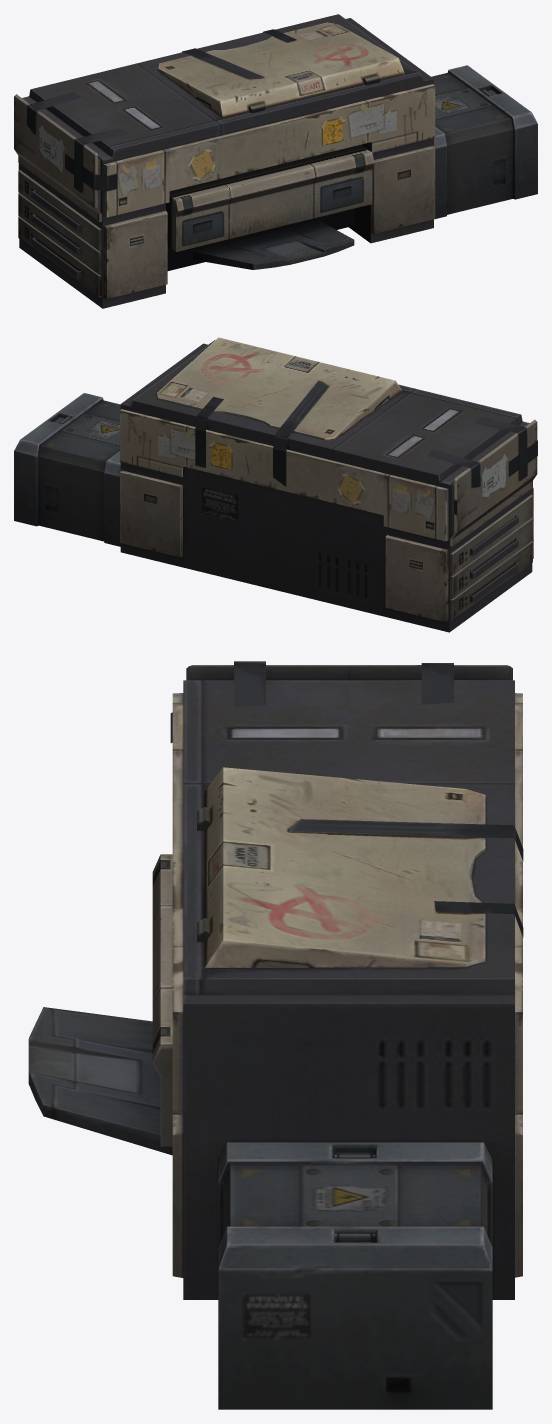
Rendered from mf_blueprintprinter001.FBX.
3 renders of one model, top to bottom at view 1: azimuth 30°, elevation 25°; view 2: azimuth 150°, elevation 25°; view 3: azimuth 270°, elevation 25°, orthographic. The views are drawn at different scales.
Visible parts, largest first — view 1: mf_blueprintprinter001; view 2: mf_blueprintprinter001; view 3: mf_blueprintprinter001.
Part boxes in pixels (x1=…): mf_blueprintprinter001: x1=14, y1=14, x2=537, y2=308; mf_blueprintprinter001: x1=14, y1=337, x2=537, y2=632; mf_blueprintprinter001: x1=28, y1=661, x2=523, y2=1409.
Bounding box in the file's own units: 3.6 × 1.28 × 1.72.
